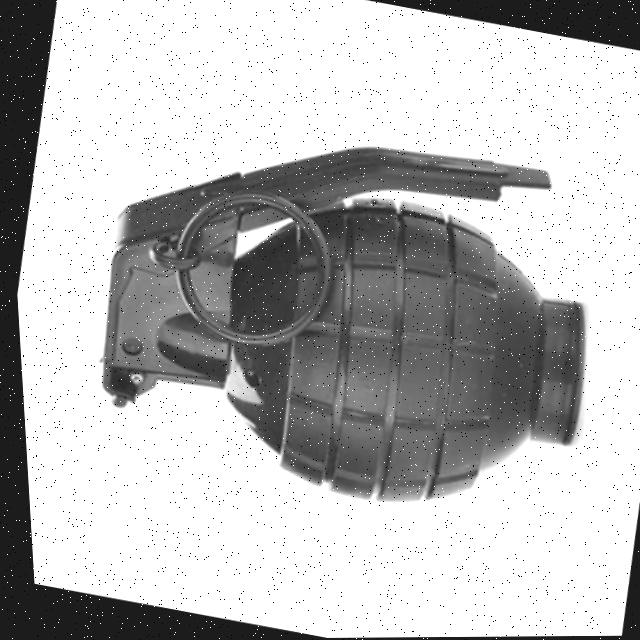grenade: (41, 51, 640, 563)
